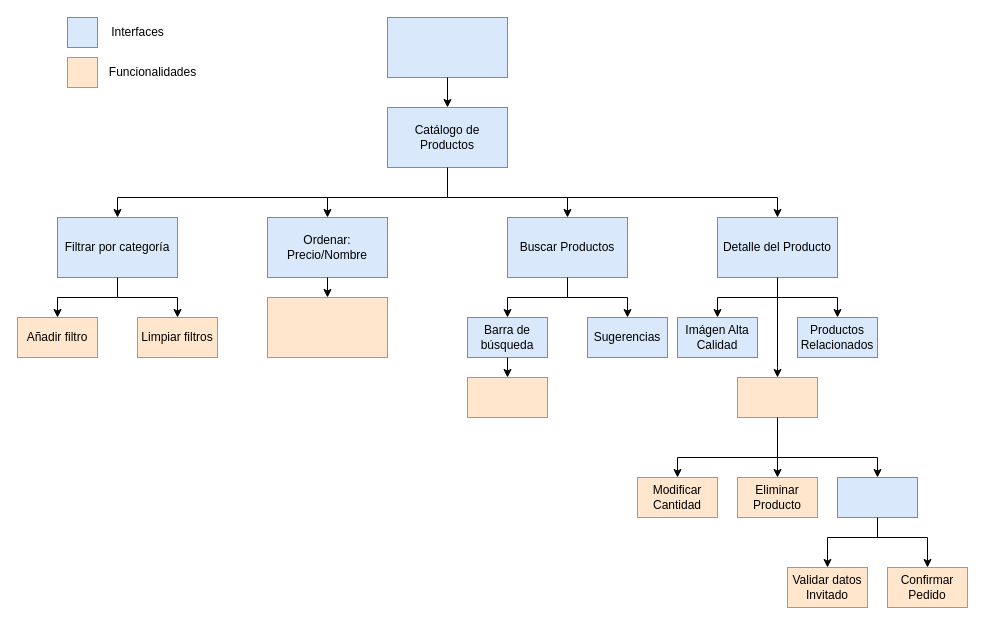
This 985x625 diagram has some shape labels left out. The centre of each missing label's shape, as x and y in pixels:
Añadir al carrito: the point at 777,397
Checkout como Invitado: the point at 877,497
Inicio: the point at 447,47
Lógica: Búsqueda en BD: the point at 507,397
Lógica: Reordenar lista: the point at 327,327
